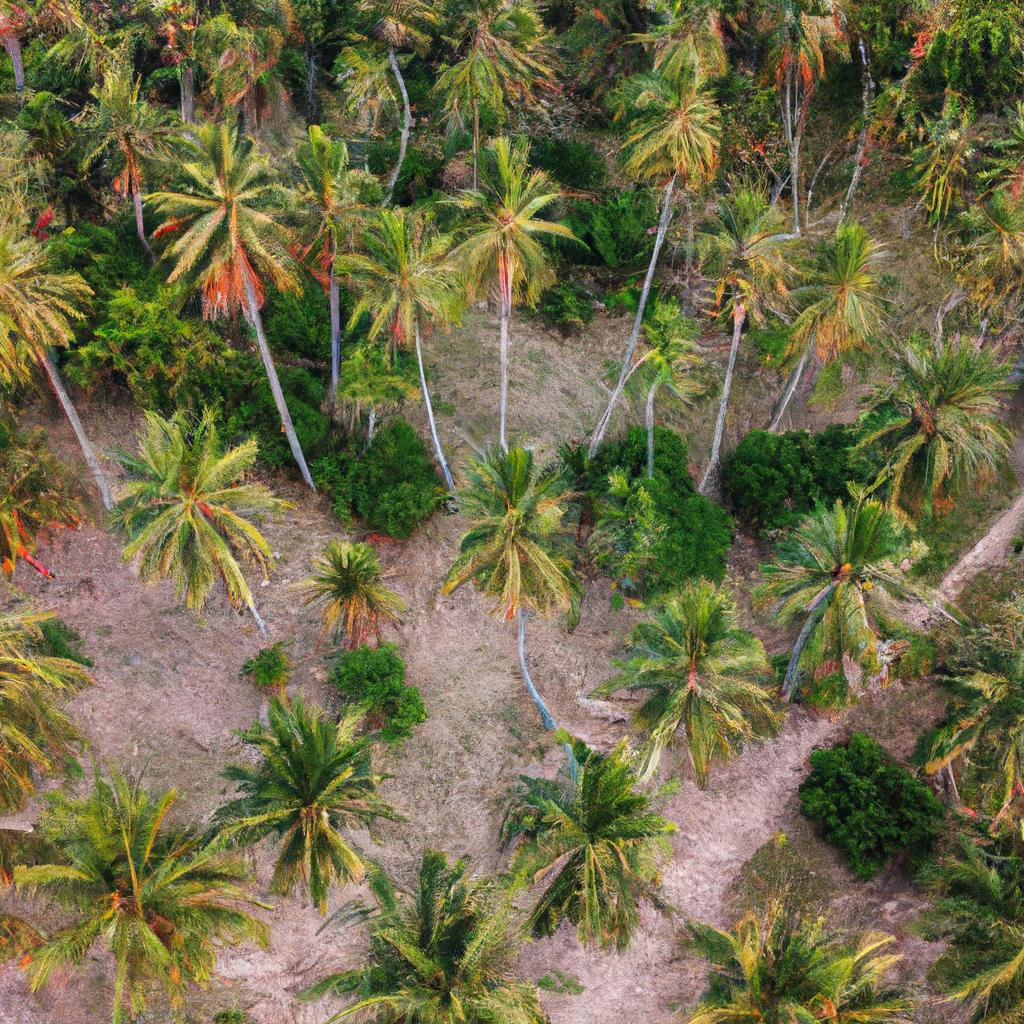coconut_tree: (19, 732, 288, 1018), (499, 707, 665, 977), (740, 456, 932, 688), (89, 402, 296, 612), (243, 675, 413, 904), (132, 105, 304, 329), (424, 428, 602, 633), (462, 113, 589, 332), (334, 185, 473, 364), (882, 309, 1017, 486), (604, 29, 719, 220), (786, 182, 899, 374), (315, 526, 402, 628)
